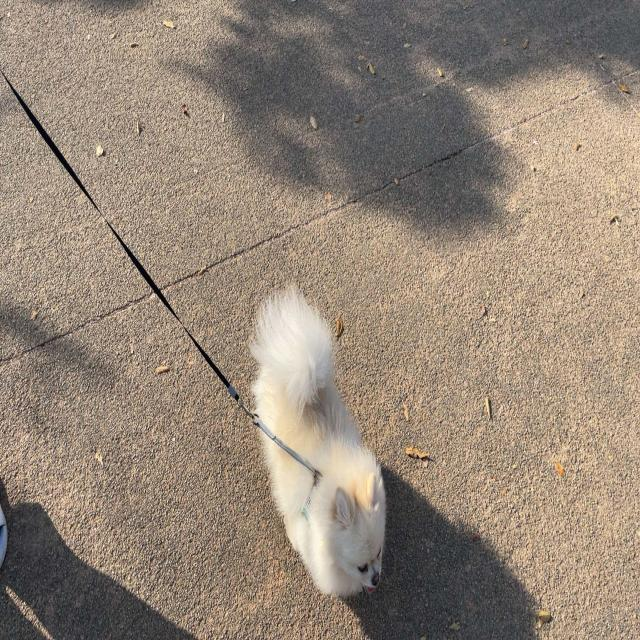Dog: (247, 282, 387, 602)
